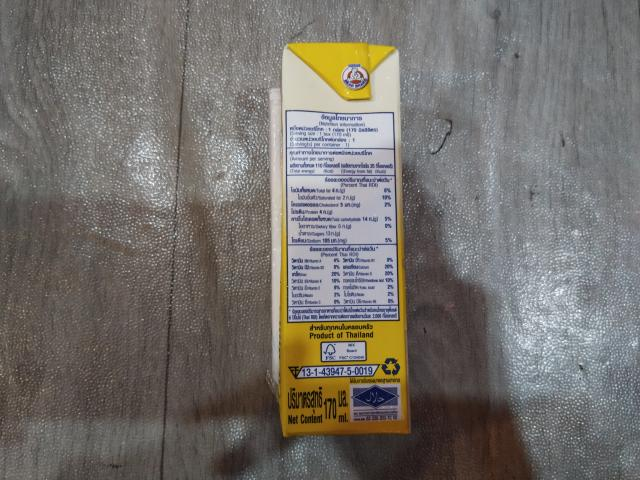drink_box: (262, 36, 427, 440)
